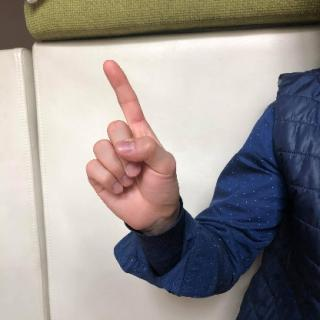BAA: (85, 55, 185, 231)
